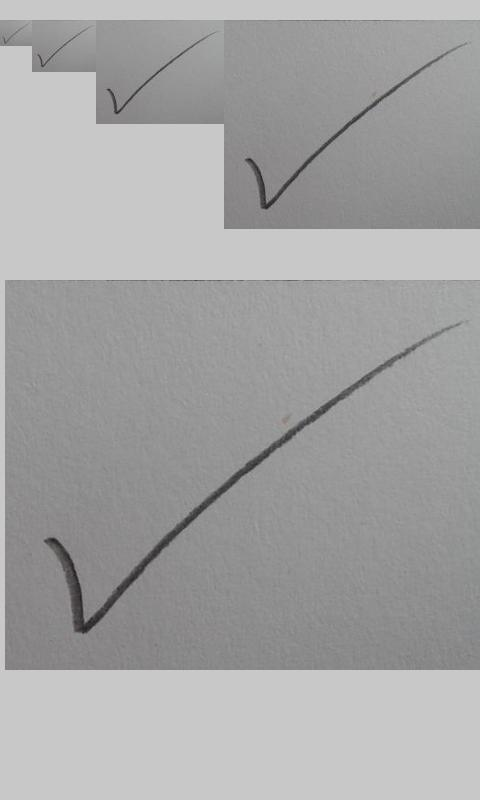check_box: (44, 322, 458, 636), (246, 42, 470, 210), (107, 31, 220, 115), (37, 25, 93, 67), (2, 23, 29, 44)
